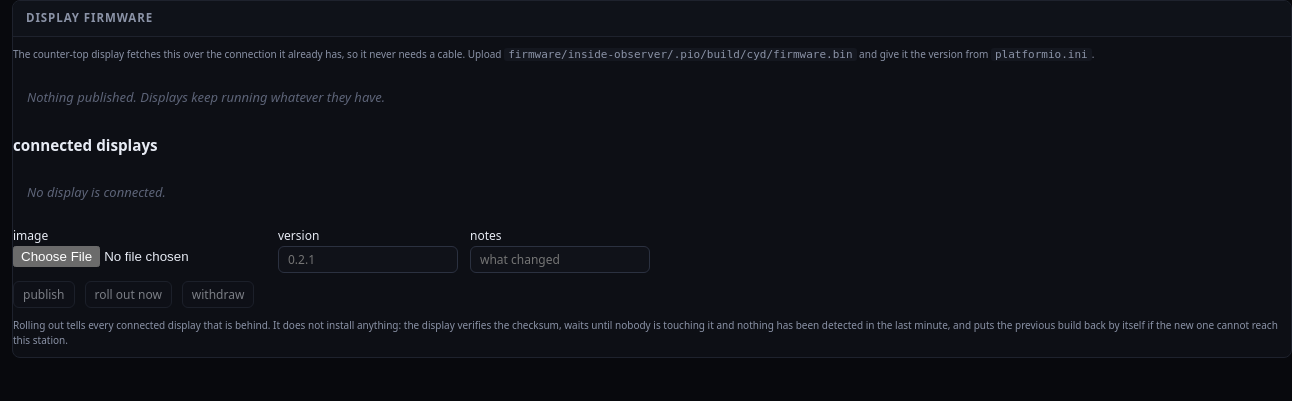
Test case: FirmwarePanel › refuses a version the display could not order, before the upload
Step 1. Type "0.2.1-rc1" into the field labelled "version" → x=368, y=260, box [278,246,458,273]
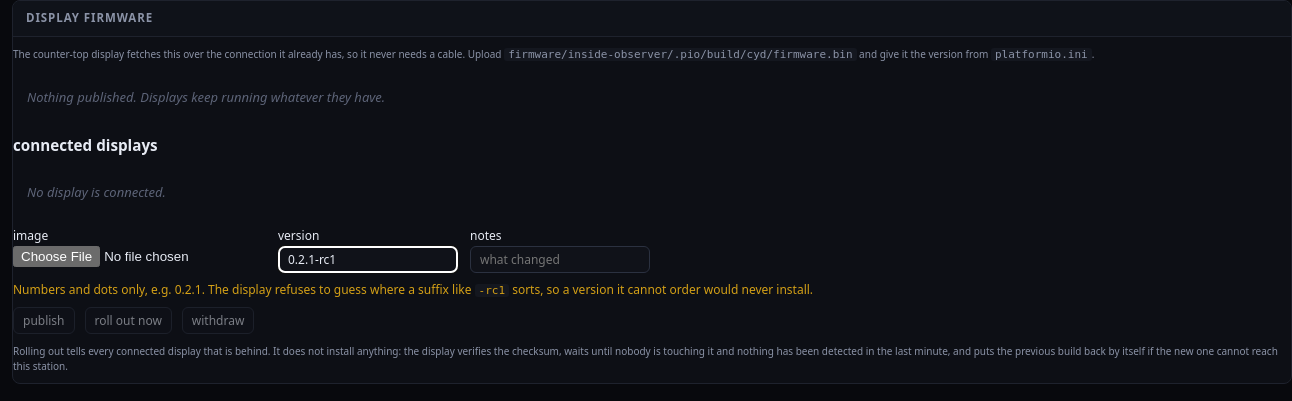
Expected: the button "publish" is disabled, [13,307,74,334]
Result: the text "Numbers and dots only" is shown at [13,281,474,298]
